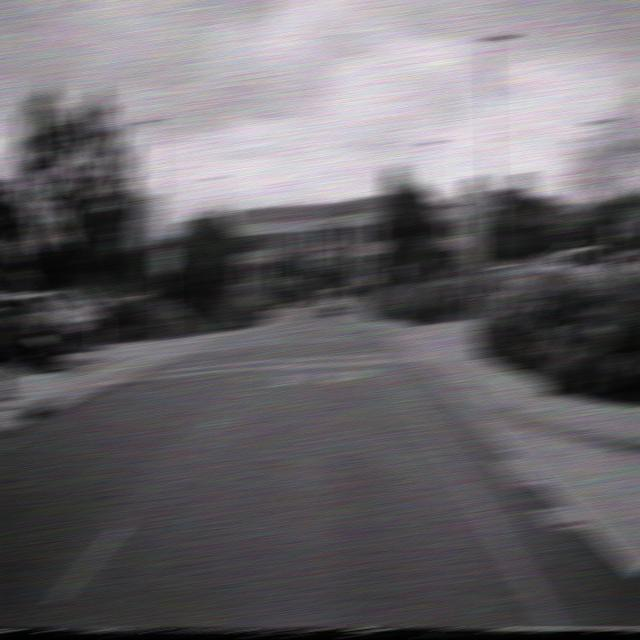stop: (459, 173, 492, 220)
